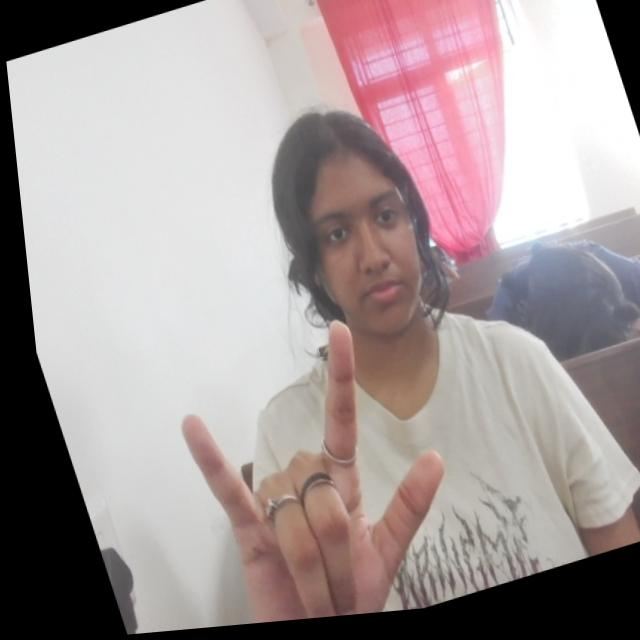iloveyou: (148, 301, 475, 632)
